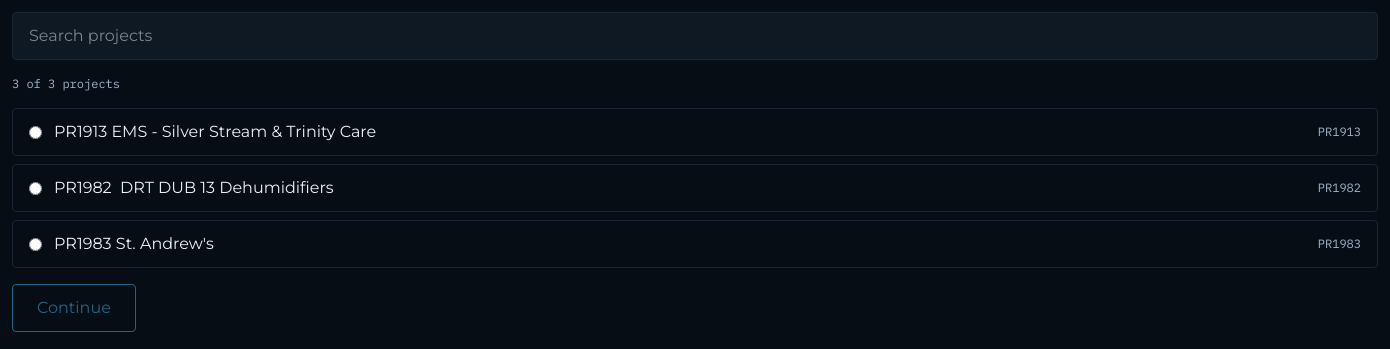
Test: ProjectPicker rendering (D-13, D-15) › keeps Continue disabled until a row is selected
The width and height of the screenshot is (1390, 349).
Expected: the button "Continue" is disabled, [12,284,136,332]
Click the radio button labelled "PR1982 DRT DUB 13 Dehumidifiers PR1982" at [36, 188], box [29,182,42,194]
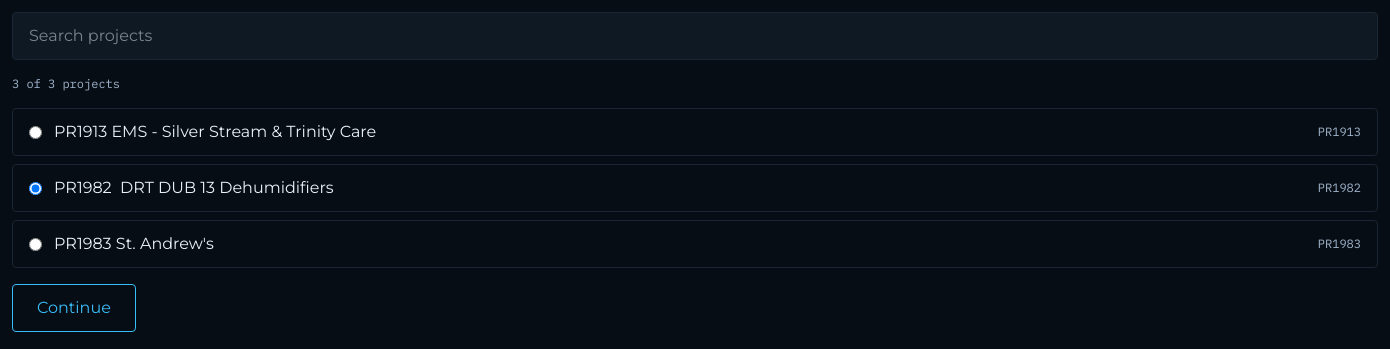
Result: the button "Continue" is enabled at [12,284,136,332]
